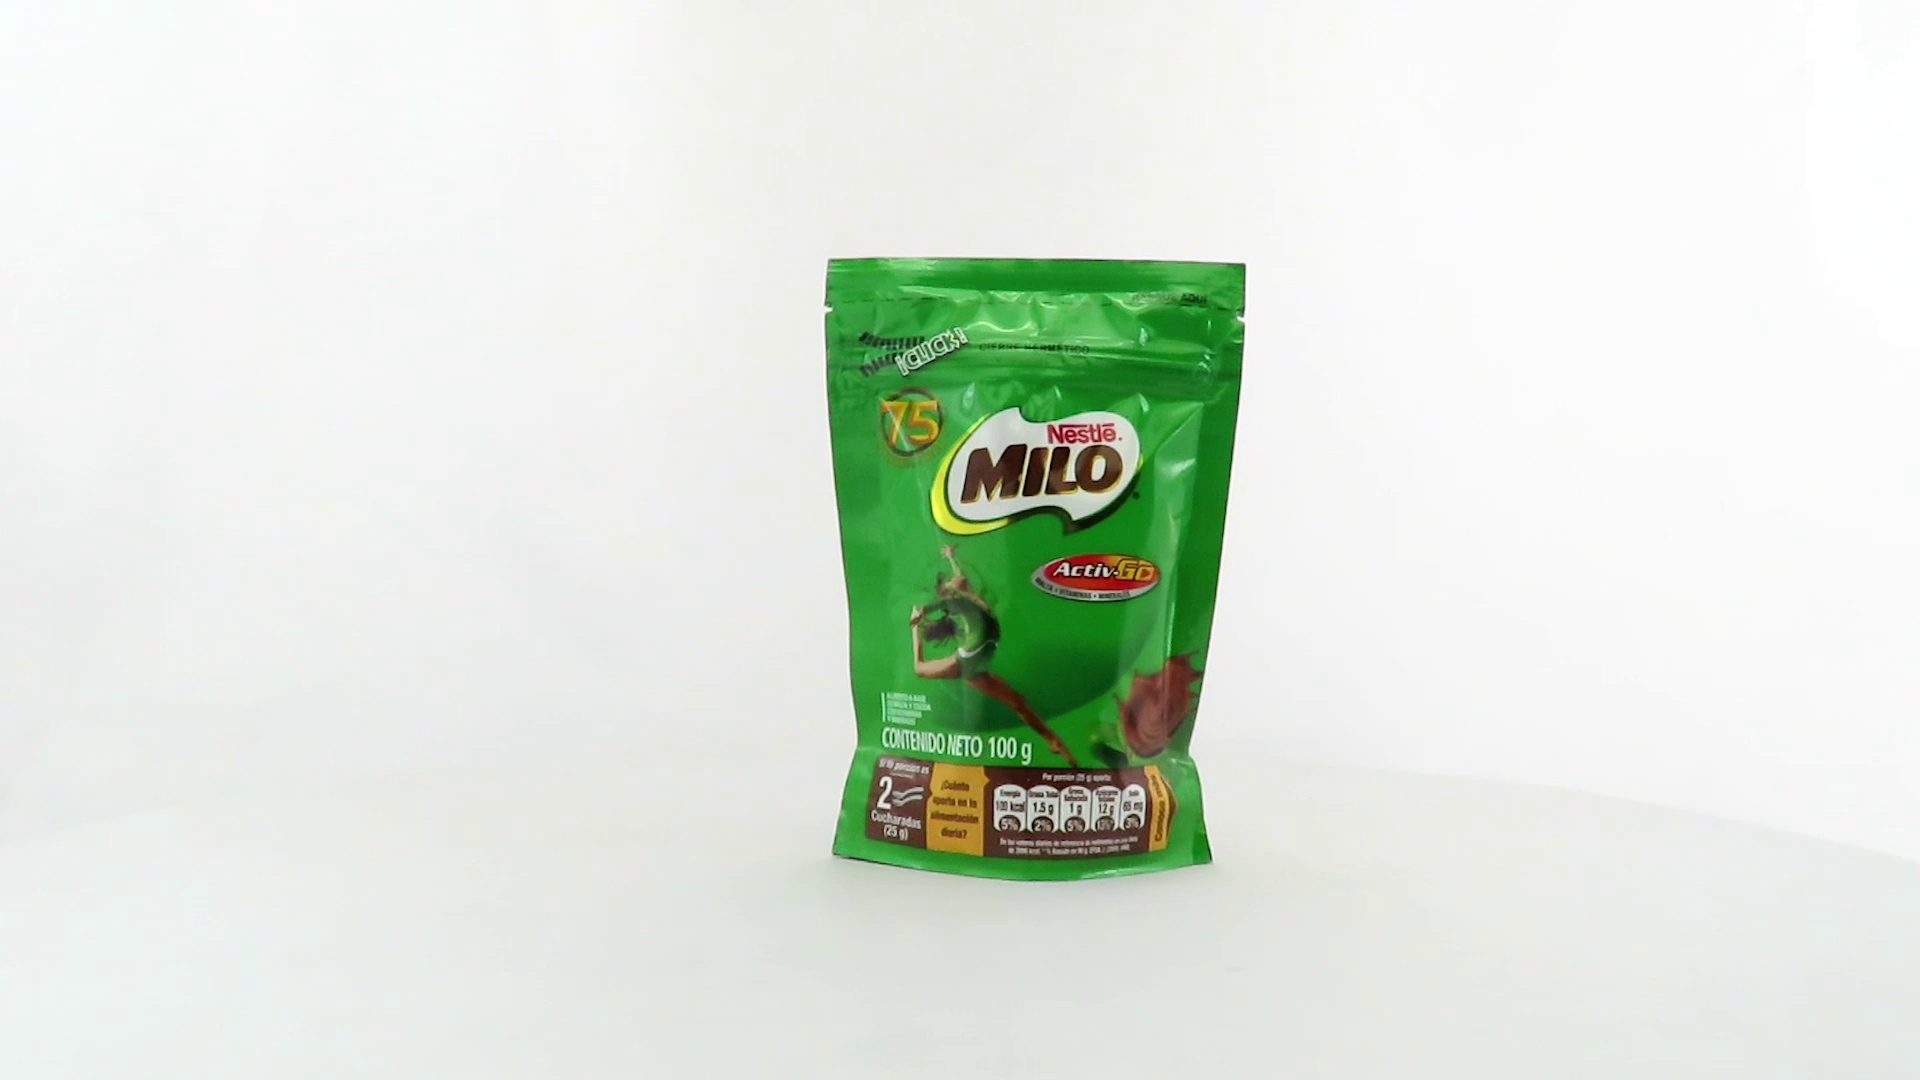COL0170203DYP10000: (819, 252, 1251, 887)
